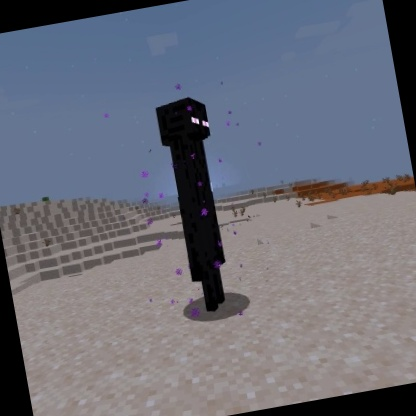enderman: (149, 91, 245, 320)
